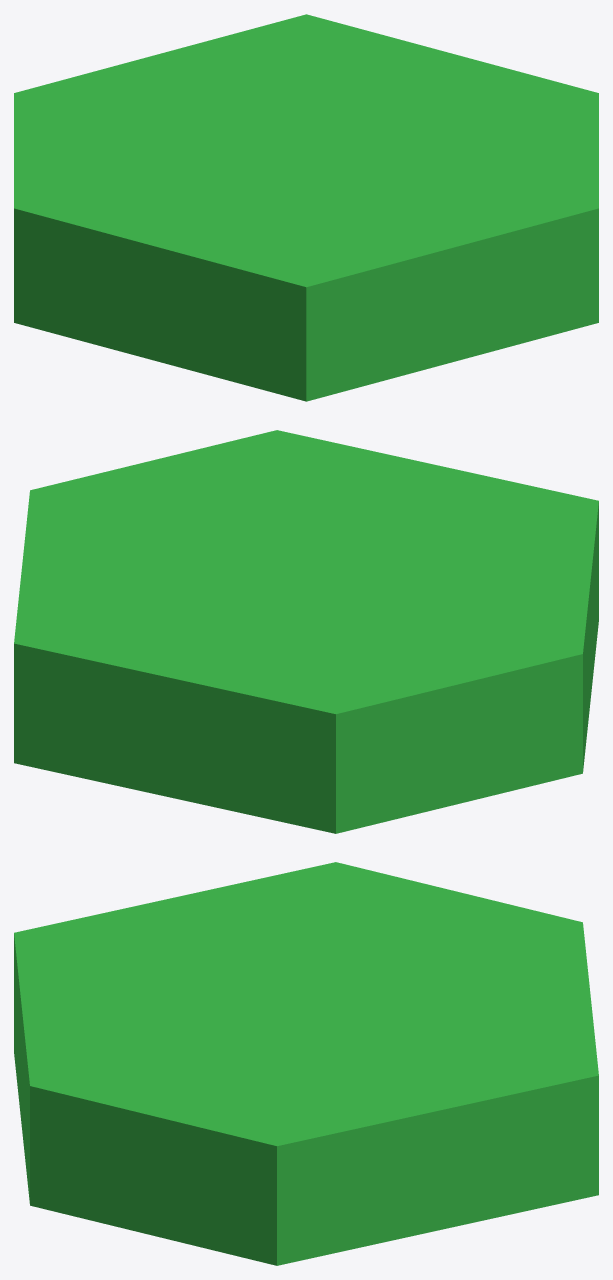
The model's file is hexagon.fbx.
3 views of the same model, one above another, from view 1: azimuth 30°, elevation 25°; view 2: azimuth 150°, elevation 25°; view 3: azimuth 270°, elevation 25° (orthographic). The views are drawn at different scales.
Visible parts, largest first — view 1: Cube_24; view 2: Cube_24; view 3: Cube_24.
Part boxes in pixels (x1,y1,x2,y2): Cube_24: [14, 14, 598, 401]; Cube_24: [14, 430, 598, 833]; Cube_24: [14, 862, 598, 1265].
Bounding box in the file's own units: 73.5 × 14.43 × 63.94.
